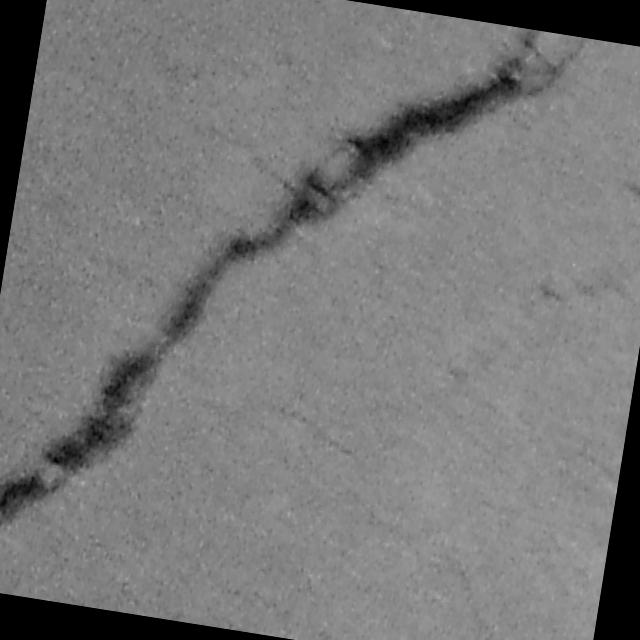crack: (234, 0, 586, 315), (0, 198, 239, 593)
